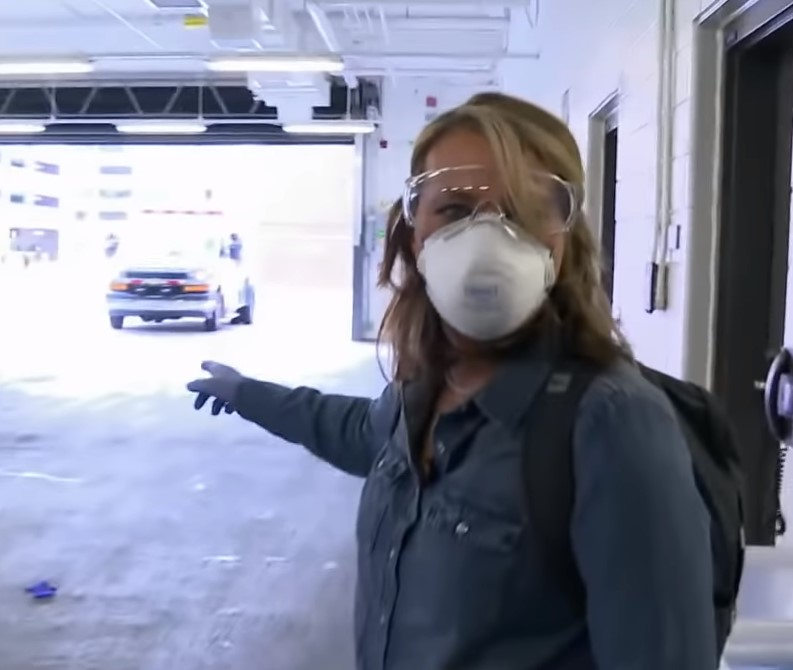face_with_mask: (401, 94, 580, 343)
